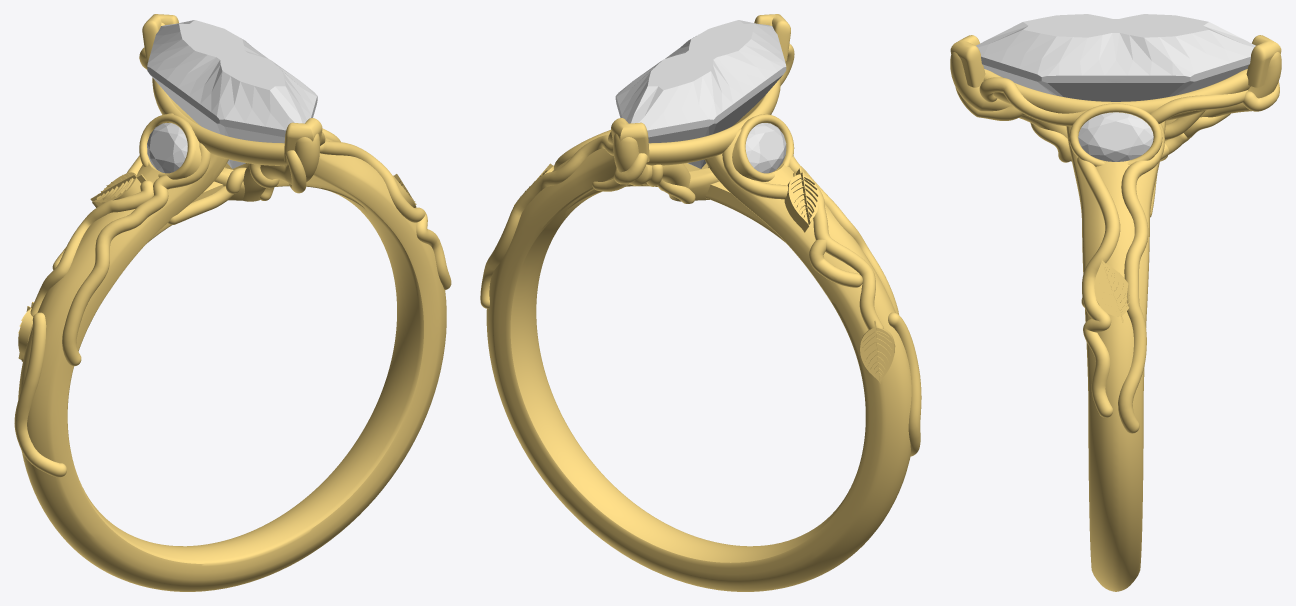
Rendered from AylaYGring_blender.glb.
3 views of the same model, side by side, from view 1: azimuth 30°, elevation 25°; view 2: azimuth 150°, elevation 25°; view 3: azimuth 270°, elevation 25° (orthographic). The views are drawn at different scales.
Parts seen in each view (by area): view 1: Ayla YG for 3d model, Ayla dia for 3d model, Ayla dia for 3d model.002; view 2: Ayla YG for 3d model, Ayla dia for 3d model, Ayla dia for 3d model.002; view 3: Ayla YG for 3d model, Ayla dia for 3d model, Ayla dia for 3d model.001.
Boxes of the visible parts, bbox=[...] form: Ayla YG for 3d model: bbox=[14, 14, 451, 591]; Ayla dia for 3d model: bbox=[147, 20, 317, 168]; Ayla dia for 3d model.002: bbox=[147, 123, 187, 173]; Ayla YG for 3d model: bbox=[480, 14, 921, 591]; Ayla dia for 3d model: bbox=[615, 20, 786, 168]; Ayla dia for 3d model.002: bbox=[745, 123, 786, 173]; Ayla YG for 3d model: bbox=[950, 35, 1281, 591]; Ayla dia for 3d model: bbox=[976, 14, 1255, 101]; Ayla dia for 3d model.001: bbox=[1078, 112, 1153, 161].
Size of the model in its own units: 20.28 by 23.82 by 13.19.
